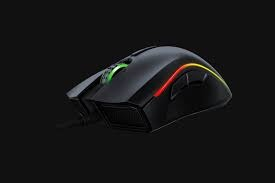mouse: (56, 24, 235, 141)
